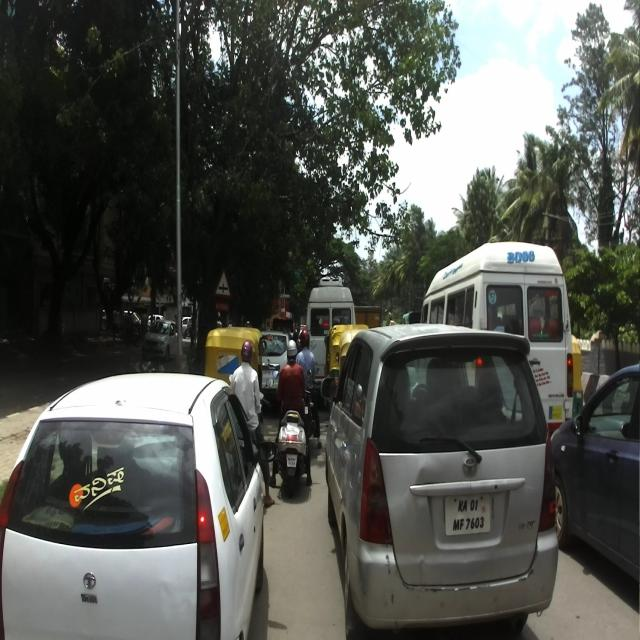Car_TATA: (0, 372, 276, 640)
Car_Toyota: (321, 323, 558, 639)
mini-bus: (421, 241, 573, 443)
scooter: (273, 366, 314, 496)
